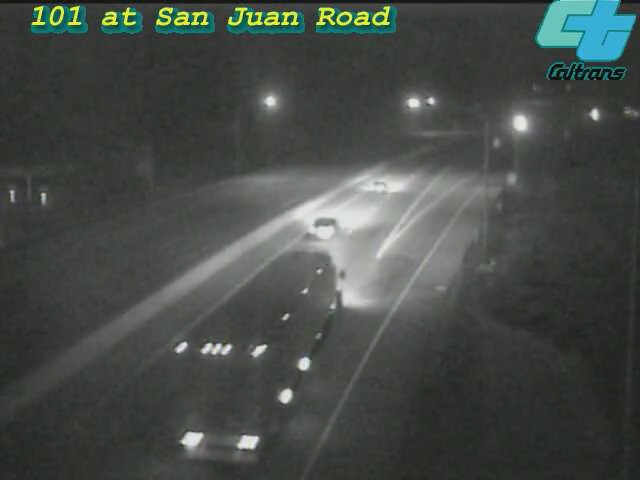vehicle: (228, 267, 338, 377), (338, 147, 418, 227), (285, 187, 365, 267), (498, 97, 548, 147), (571, 89, 621, 139)
